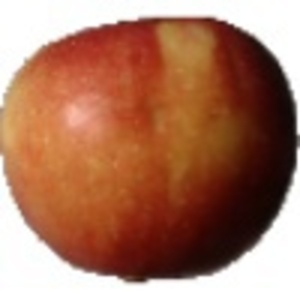maçã braeburn: (1, 14, 299, 279)
